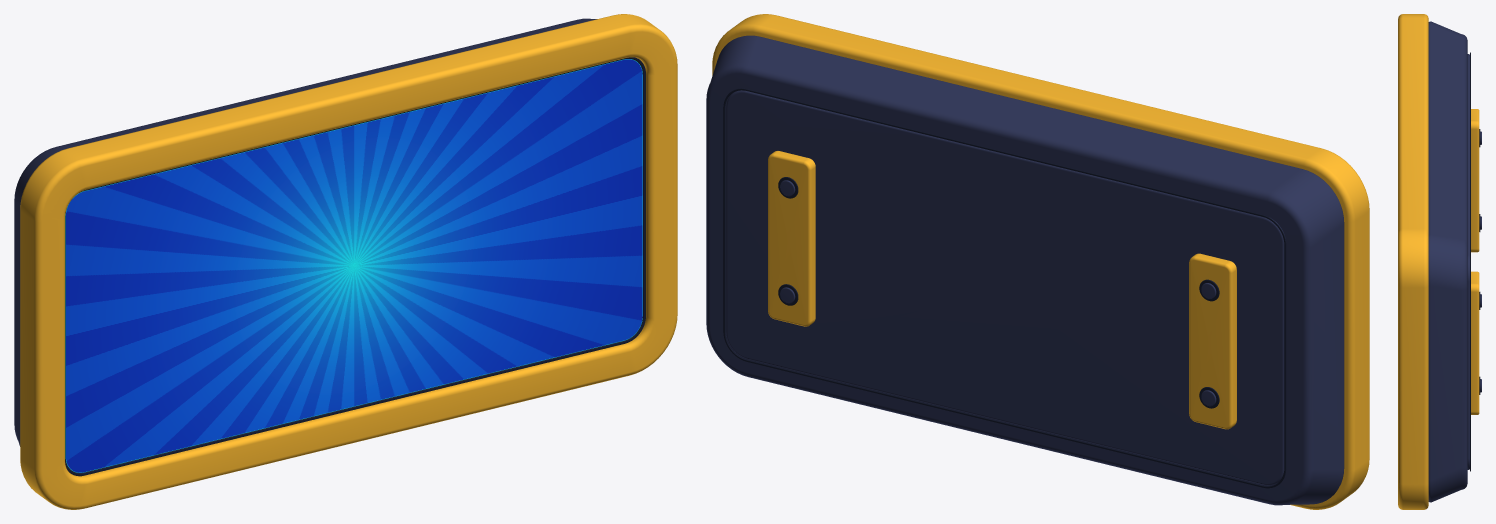
Rendered from QuestionScreen.glb.
The picture shows the model from 3 angles, left to right: view 1: azimuth 30°, elevation 25°; view 2: azimuth 150°, elevation 25°; view 3: azimuth 270°, elevation 25°; orthographic projection. The views are drawn at different scales.
Visible parts, largest first — view 1: DisplayPanel, GoldBezel, RearHousing, InnerDarkSeal; view 2: InsetRearCover, RearHousing, GoldBezel, RearMountLeft, RearMountRight, RearCoverSeam; view 3: RearHousing, GoldBezel, RearMountLeft, RearMountRight, InsetRearCover, RearCoverSeam.
Part boxes in pixels (box(x1,y1,x2,y2)): DisplayPanel: box(65, 59, 642, 472); GoldBezel: box(20, 14, 677, 509); RearHousing: box(14, 18, 597, 446); InnerDarkSeal: box(65, 57, 645, 476); InsetRearCover: box(726, 90, 1285, 485); RearHousing: box(706, 35, 1344, 505); GoldBezel: box(712, 14, 1369, 509); RearMountLeft: box(1189, 253, 1236, 429); RearMountRight: box(768, 151, 815, 326); RearCoverSeam: box(723, 88, 1286, 488); RearHousing: box(1428, 21, 1467, 502); GoldBezel: box(1398, 14, 1428, 509); RearMountLeft: box(1471, 109, 1479, 252); RearMountRight: box(1471, 271, 1479, 414); InsetRearCover: box(1467, 54, 1469, 469); RearCoverSeam: box(1470, 52, 1470, 471).
Bounding box in the file's own units: 14.8 × 7.7 × 2.11.
Materials: 4 (4 with a texture image).
